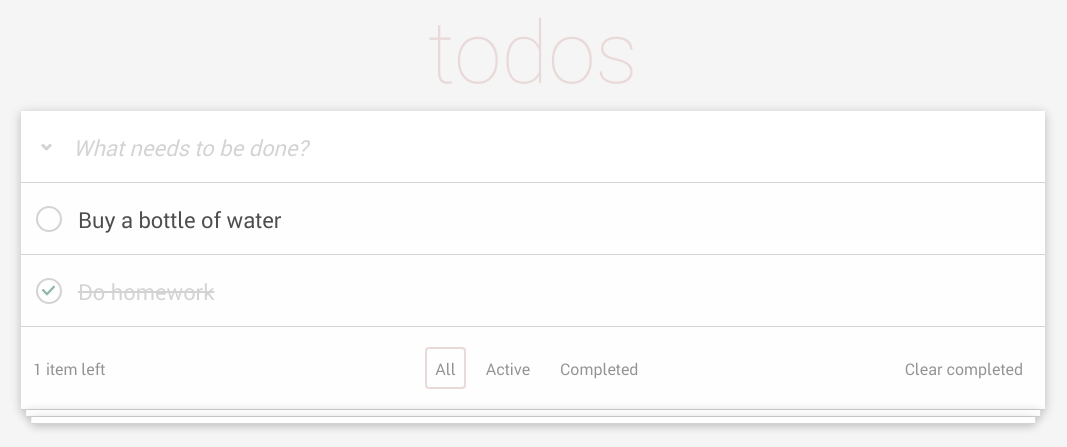
Test: User actions work correctly › User can clear completed tasks
The width and height of the screenshot is (1067, 447).
Click the button "Clear completed" at (964, 368), box x1=895 y1=347 x2=1033 y2=389
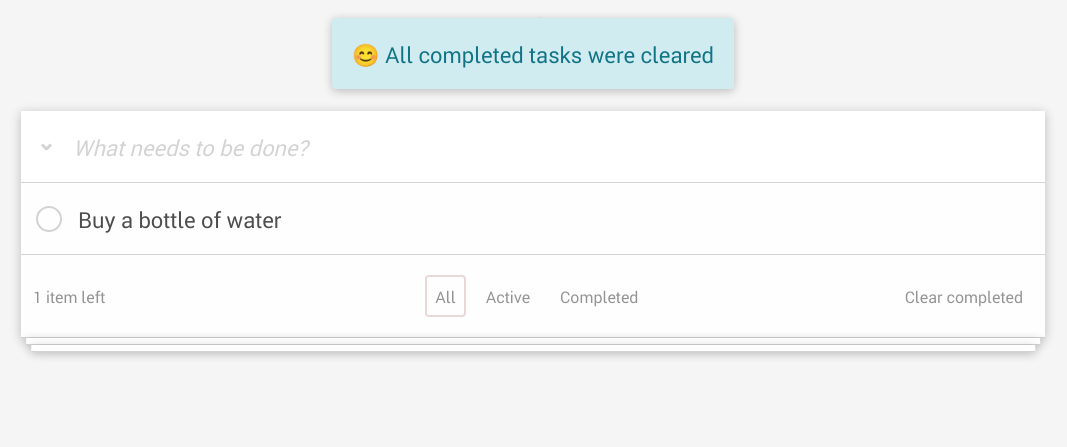
Expected: the checkbox "Buy a bottle of water" is shown, x1=78 y1=203 x2=282 y2=234
Now the checkbox "Do homework" is gone
